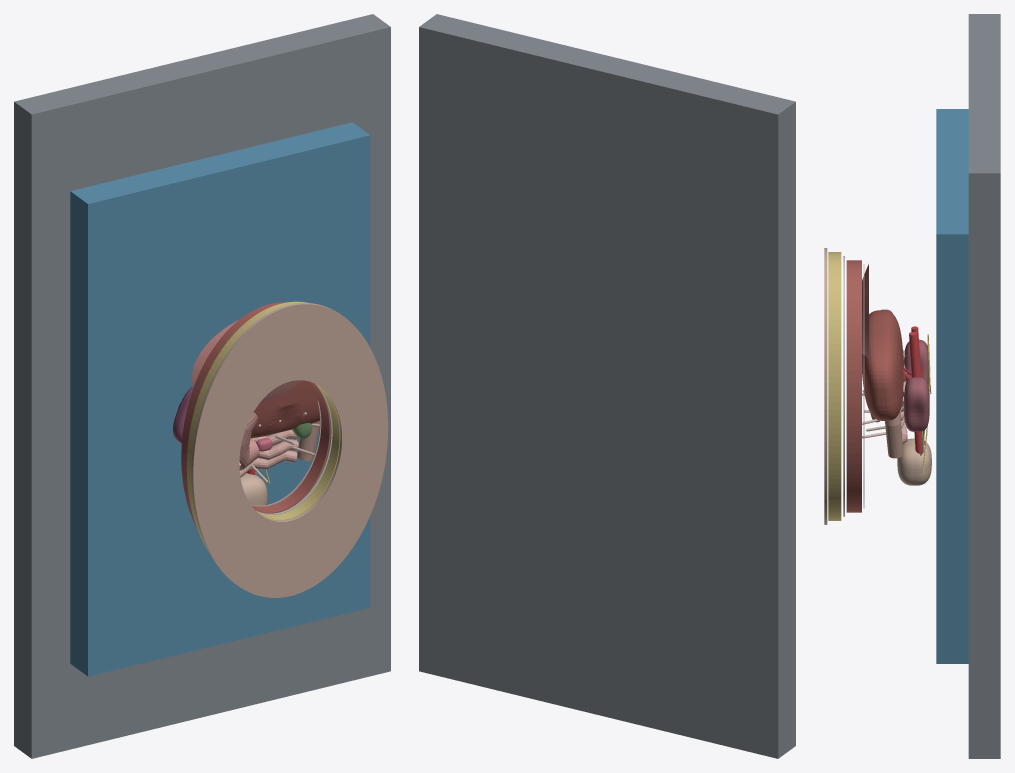
Rendered from dranmar_patient_operating_scene.glb.
The picture shows the model from 3 angles, left to right: view 1: azimuth 30°, elevation 25°; view 2: azimuth 150°, elevation 25°; view 3: azimuth 270°, elevation 25°; orthographic projection. The views are drawn at different scales.
Visible parts, largest first — view 1: Mattress, OperatingTable, skin, abdominal_wall, subcutaneous_fat, liver, small_bowel, diaphragm, stomach, bladder; view 2: OperatingTable; view 3: OperatingTable, Mattress, abdominal_wall, liver, subcutaneous_fat, right_kidney, bladder, skin, major_vessels, colon, diaphragm, fascia (+2 smaller).
Boxes of the visible parts, x1=… form: Mattress: x1=70, y1=122, x2=370, y2=676; OperatingTable: x1=14, y1=14, x2=390, y2=758; skin: x1=191, y1=303, x2=388, y2=597; abdominal_wall: x1=181, y1=302, x2=330, y2=527; subcutaneous_fat: x1=186, y1=301, x2=340, y2=551; liver: x1=251, y1=380, x2=319, y2=438; small_bowel: x1=239, y1=429, x2=298, y2=477; diaphragm: x1=191, y1=320, x2=301, y2=403; stomach: x1=239, y1=412, x2=259, y2=470; bladder: x1=240, y1=473, x2=267, y2=505; OperatingTable: x1=419, y1=14, x2=795, y2=758; OperatingTable: x1=968, y1=14, x2=1000, y2=758; Mattress: x1=936, y1=109, x2=968, y2=663; abdominal_wall: x1=846, y1=260, x2=861, y2=512; liver: x1=862, y1=310, x2=906, y2=420; subcutaneous_fat: x1=828, y1=252, x2=841, y2=520; right_kidney: x1=904, y1=377, x2=929, y2=431; bladder: x1=897, y1=438, x2=931, y2=485; skin: x1=824, y1=248, x2=827, y2=524; major_vessels: x1=903, y1=326, x2=924, y2=453; colon: x1=885, y1=412, x2=903, y2=458; diaphragm: x1=862, y1=264, x2=868, y2=359; fascia: x1=843, y1=256, x2=844, y2=516.
Size of the model in its own units: 0.7 by 1.2 by 0.328.
